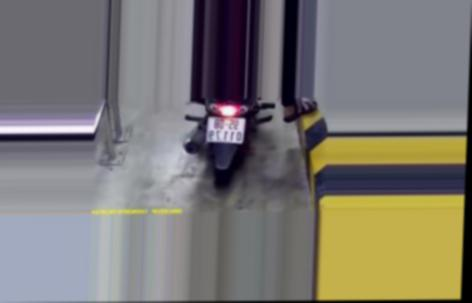License_Plate: (202, 115, 248, 148)
